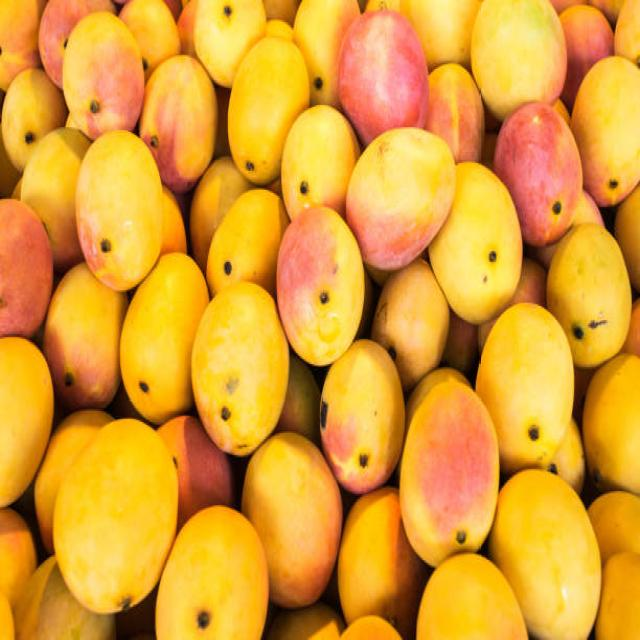mango: (54, 420, 178, 614), (489, 469, 601, 638), (400, 381, 499, 565), (241, 433, 342, 609), (191, 283, 289, 455), (476, 304, 574, 473), (120, 253, 209, 423), (156, 506, 269, 639), (429, 163, 522, 324), (76, 131, 162, 291), (338, 488, 429, 639), (320, 339, 405, 494), (494, 101, 582, 247), (42, 262, 128, 410), (546, 223, 631, 368), (228, 38, 310, 185), (338, 11, 429, 143), (470, 0, 566, 119), (470, 0, 566, 119), (139, 54, 218, 192), (35, 411, 112, 552), (62, 13, 145, 140), (371, 259, 450, 391), (571, 56, 640, 206), (20, 128, 91, 271), (416, 553, 528, 639), (0, 338, 54, 507), (281, 105, 360, 218), (206, 189, 289, 296), (158, 416, 234, 530), (582, 354, 640, 494), (294, 0, 360, 108), (0, 199, 51, 338), (190, 158, 252, 271), (2, 68, 68, 172), (39, 0, 116, 87), (425, 64, 485, 163), (560, 6, 614, 112), (119, 0, 180, 80), (0, 0, 40, 91)
